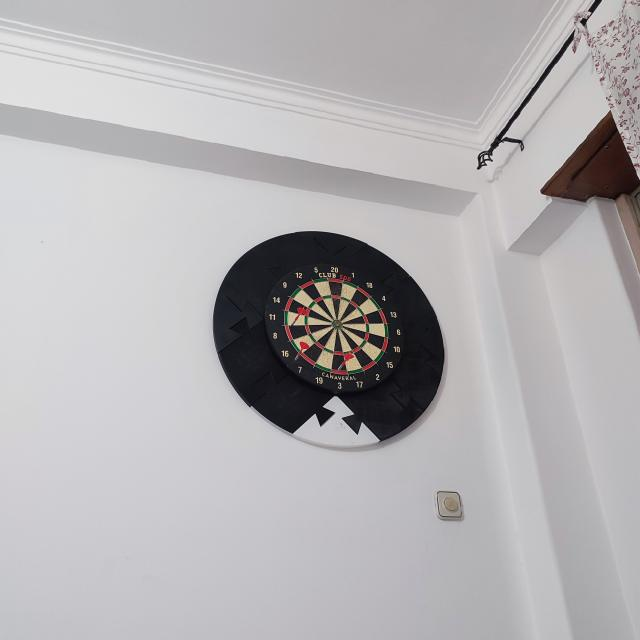dart: (336, 351, 354, 373), (336, 352, 354, 374), (293, 340, 309, 363), (294, 340, 310, 363), (290, 306, 307, 327), (290, 306, 307, 327)
